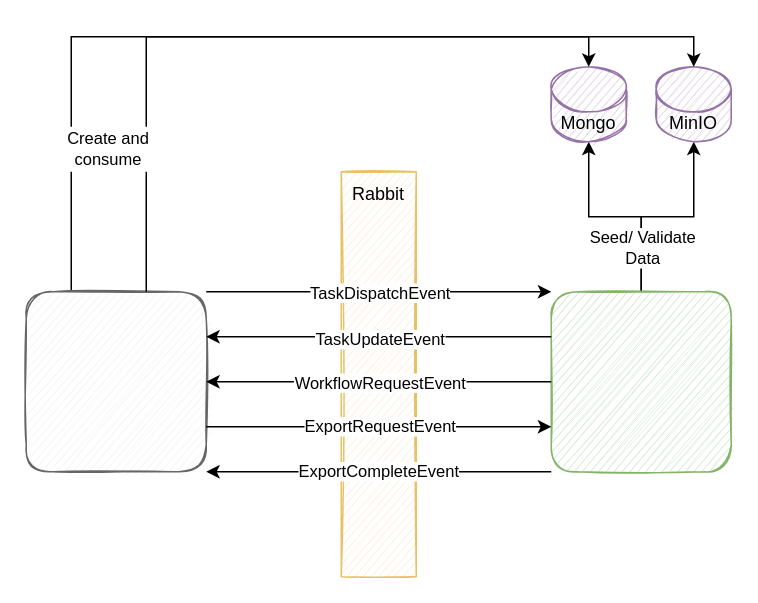
Some shapes in this 758 by 603 pixel diagram are drawn without their labels. The shapes that lost their labels are listed below. From the top down, each one's box as (x1, y1, x2, y2) in pixels, then its label:
(25, 290, 206, 472): Workflow Executor
(550, 290, 731, 472): Workflow Manager Integration Tests
